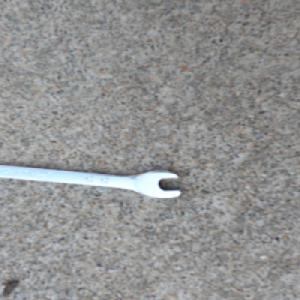Wrench: (0, 164, 186, 200)
